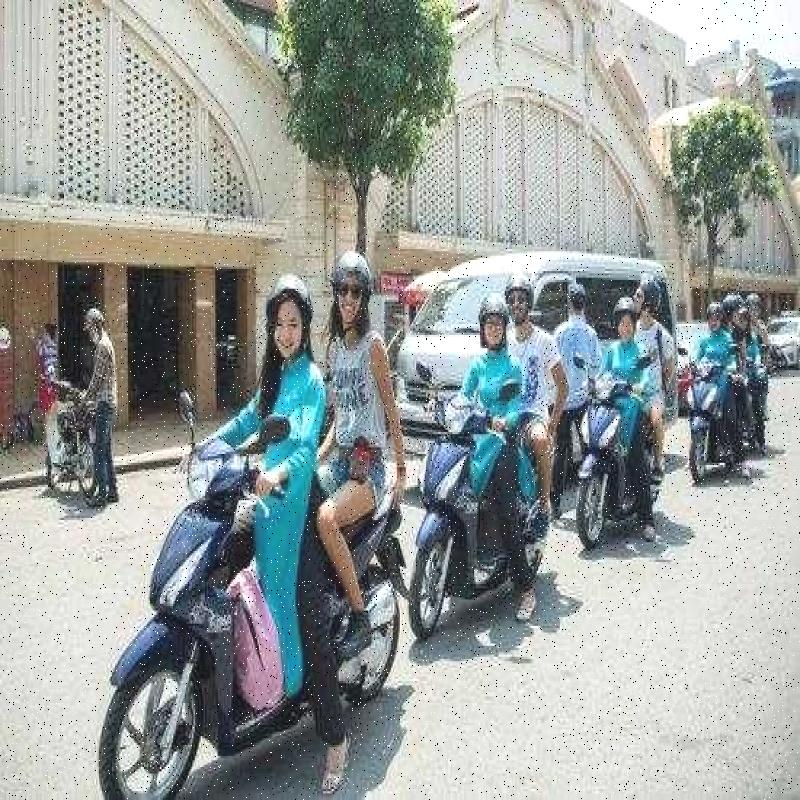bike: (121, 388, 421, 800), (406, 344, 554, 638), (567, 338, 641, 560), (684, 339, 724, 502)
